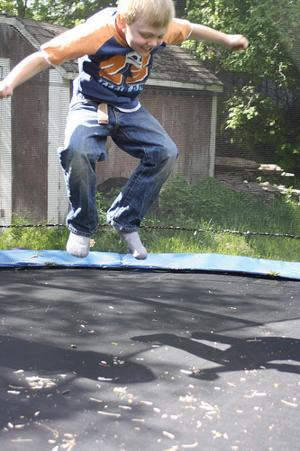person: (2, 1, 249, 258)
